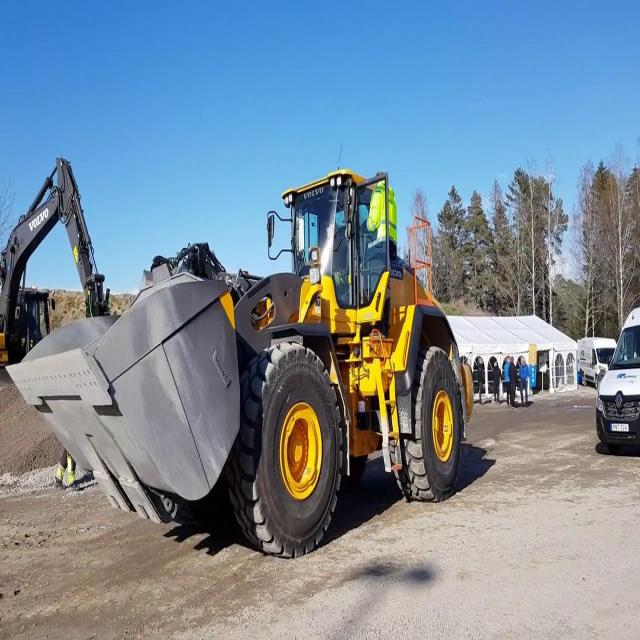Excavator: (0, 160, 104, 371)
Loader: (11, 162, 477, 559)
